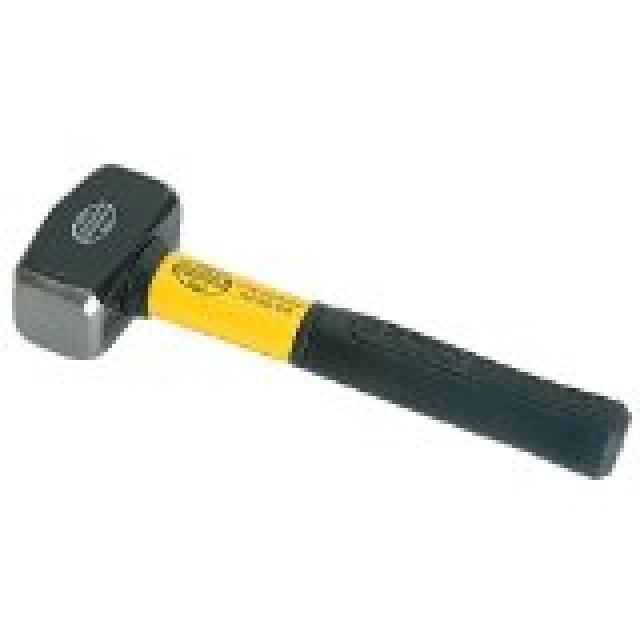hammer: (10, 146, 640, 504)
